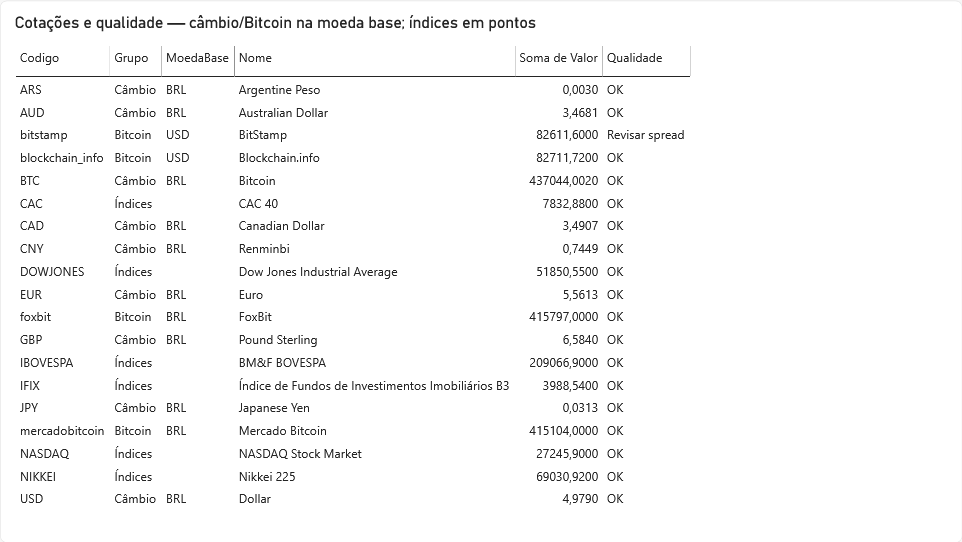

Layout of this report page (visuals, bound fields, positions):
{"tool":"powerbi","page":{"name":"Cotações e qualidade","canvas":[1920,1080],"ordinal":1},"visuals":[{"type":"tableEx","title":"Cotações e qualidade — câmbio/Bitcoin na moeda base; índices em pontos","fields":{"Values":["Mercado HG Finance.Codigo","Mercado HG Finance.Grupo","Mercado HG Finance.MoedaBase","Mercado HG Finance.Nome","Sum(Mercado HG Finance.Valor)","Mercado HG Finance.Qualidade"]},"box":[10,0,1100,620],"z":0}]}

Visuals, with their boxes in screenshot pixels (x1, y1, x2, y2), scaled from the page's 1920x1080 canvas onto the 962x542 screenshot:
"Cotações e qualidade — câmbio/Bitcoin na moeda base; índices em pontos" tableEx: bbox=(5, 0, 556, 311)
